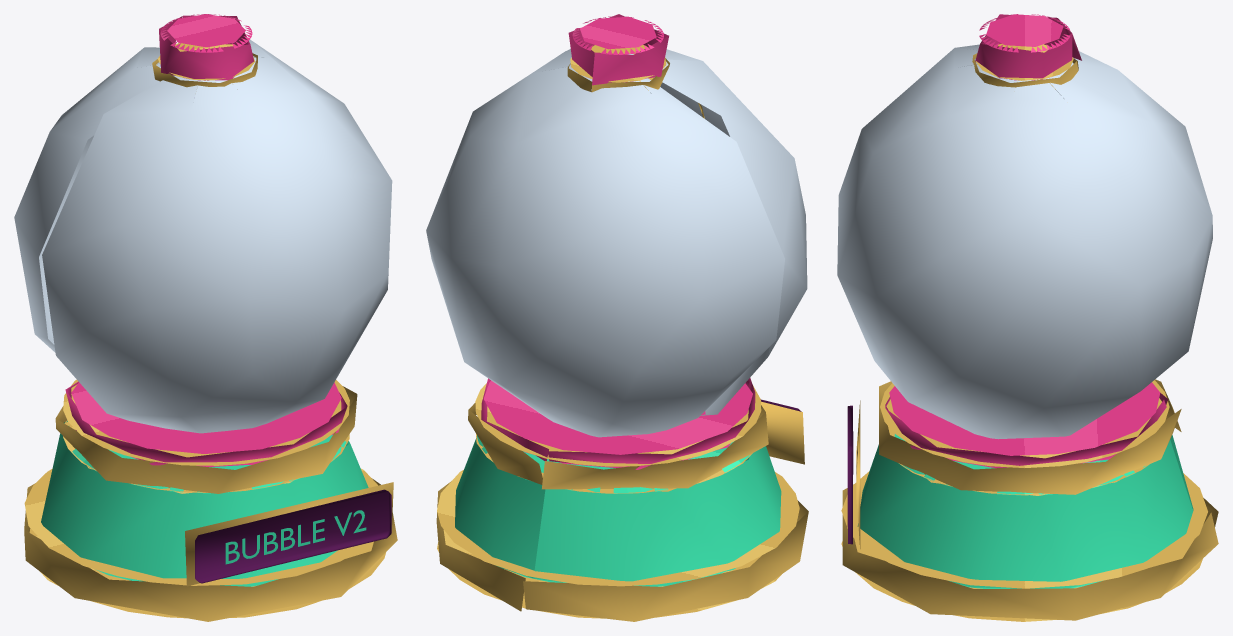
Rendered from bubbles_v2.lod1.glb.
The picture shows the model from 3 angles, left to right: view 1: azimuth 30°, elevation 25°; view 2: azimuth 150°, elevation 25°; view 3: azimuth 270°, elevation 25°; orthographic projection.
Visible parts, largest first — view 1: Clear bubble globe, bubbles_v2_brass, bubbles_v2_mint, bubbles_v2_pink, Bubble label plum, preserved_lettering; view 2: Clear bubble globe, bubbles_v2_brass, bubbles_v2_mint, bubbles_v2_pink; view 3: Clear bubble globe, bubbles_v2_mint, bubbles_v2_brass, bubbles_v2_pink, Bubble label plum.
Part boxes in pixels (x1,y1,x2,y2): Clear bubble globe: (14, 39, 392, 433); bubbles_v2_brass: (24, 43, 397, 621); bubbles_v2_mint: (41, 421, 368, 586); bubbles_v2_pink: (65, 14, 347, 466); Bubble label plum: (195, 489, 391, 583); preserved_lettering: (225, 510, 366, 564); Clear bubble globe: (426, 49, 807, 437); bubbles_v2_brass: (436, 45, 808, 621); bubbles_v2_mint: (455, 435, 781, 586); bubbles_v2_pink: (481, 14, 755, 469); Clear bubble globe: (837, 44, 1212, 439); bubbles_v2_mint: (857, 434, 1193, 588); bubbles_v2_brass: (841, 44, 1218, 621); bubbles_v2_pink: (885, 14, 1167, 468); Bubble label plum: (847, 405, 853, 544).
Bounding box in the file's own units: 0.4872 × 0.7159 × 0.4815.
Materials: 3 (1 with a texture image).
